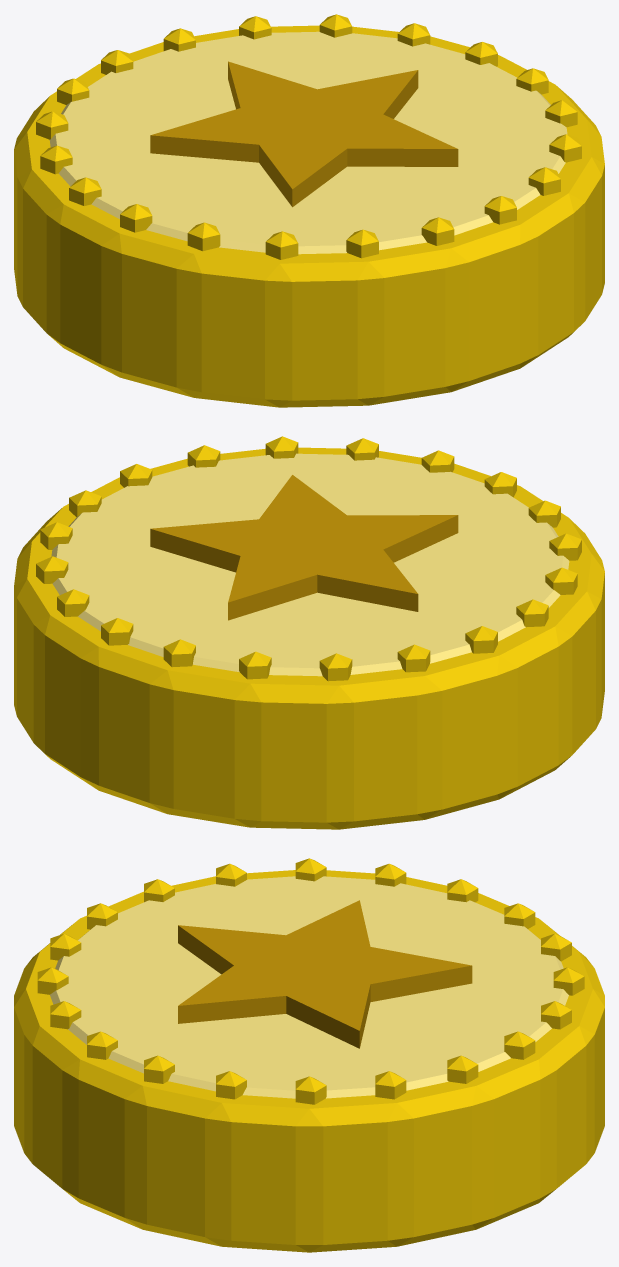
Rendered from CF_Coin.fbx.
3 views of the same model, one above another, from view 1: azimuth 30°, elevation 25°; view 2: azimuth 150°, elevation 25°; view 3: azimuth 270°, elevation 25° (orthographic).
Visible parts, largest first — view 1: CF_Coin_Rim, CF_Coin_Face, CF_Coin_Mark; view 2: CF_Coin_Rim, CF_Coin_Face, CF_Coin_Mark; view 3: CF_Coin_Rim, CF_Coin_Face, CF_Coin_Mark.
Part boxes in pixels (x1,y1,x2,y2): CF_Coin_Rim: [14, 14, 604, 407]; CF_Coin_Face: [49, 31, 567, 254]; CF_Coin_Mark: [150, 61, 458, 207]; CF_Coin_Rim: [14, 436, 604, 829]; CF_Coin_Face: [51, 453, 569, 676]; CF_Coin_Mark: [150, 475, 458, 620]; CF_Coin_Rim: [14, 858, 604, 1252]; CF_Coin_Face: [50, 876, 568, 1098]; CF_Coin_Mark: [178, 900, 472, 1048].
Size of the model in its own units: 2.98 by 1.03 by 2.98.
